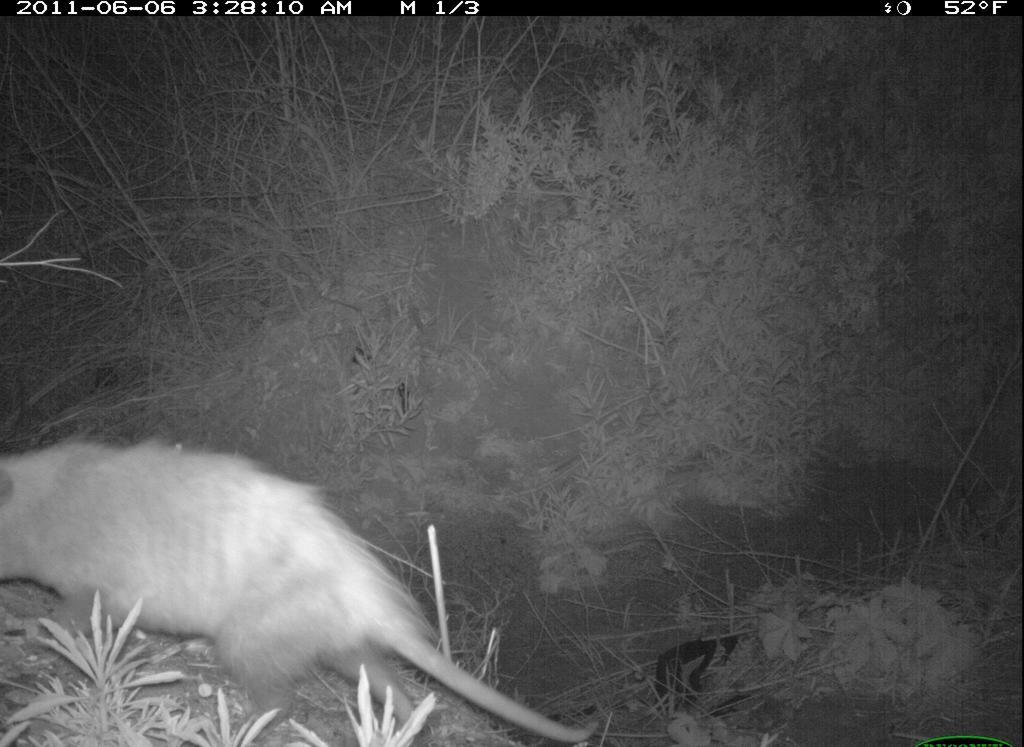opossum: (4, 438, 594, 747)
